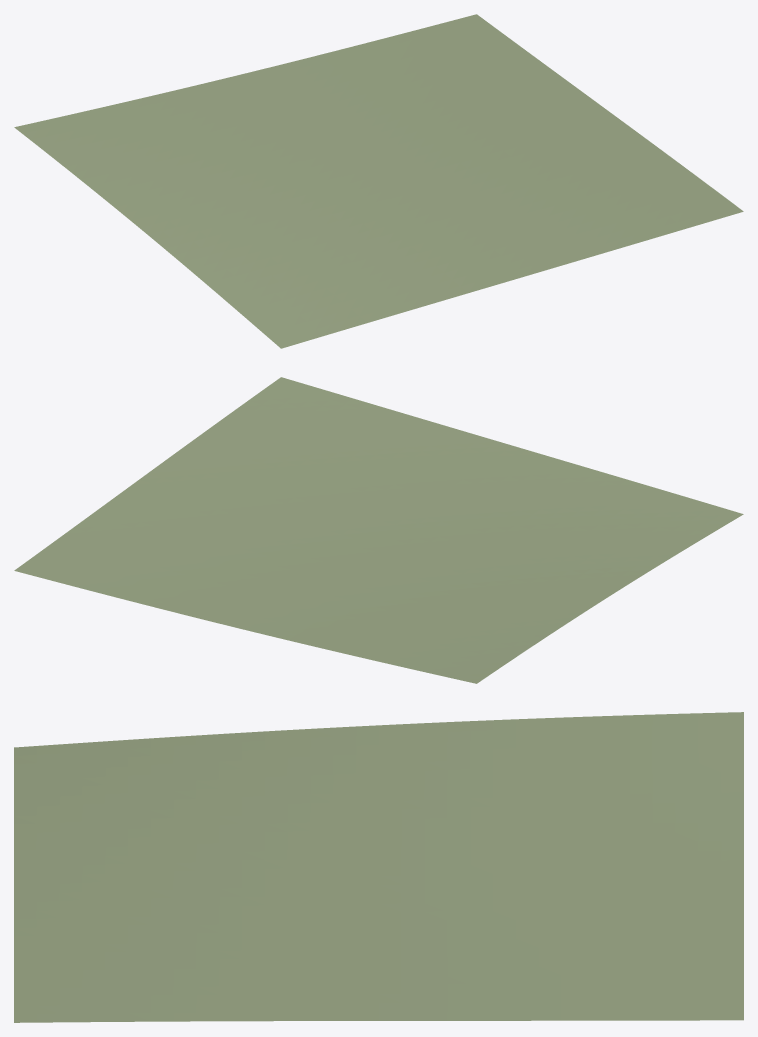
The model's file is expanse-27-14.glb.
The picture shows the model from 3 angles, top to bottom: view 1: azimuth 30°, elevation 25°; view 2: azimuth 150°, elevation 25°; view 3: azimuth 270°, elevation 25°; orthographic projection. The views are drawn at different scales.
Parts seen in each view (by area): view 1: expanse-27-14; view 2: expanse-27-14; view 3: expanse-27-14.
Boxes of the visible parts, x1,y1,x2,y2 form: expanse-27-14: (14, 14, 743, 348); expanse-27-14: (14, 377, 743, 683); expanse-27-14: (14, 712, 743, 1022).
Size of the model in its own units: 256 by 13.81 by 256.
